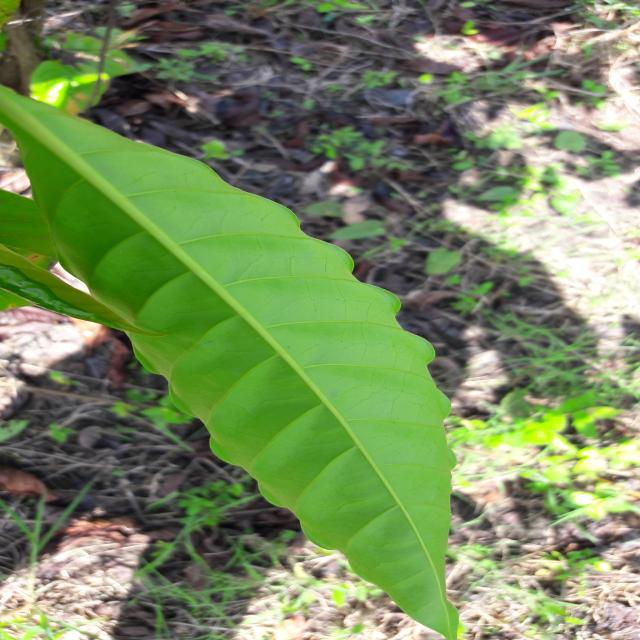Sanas: (0, 88, 463, 640)
